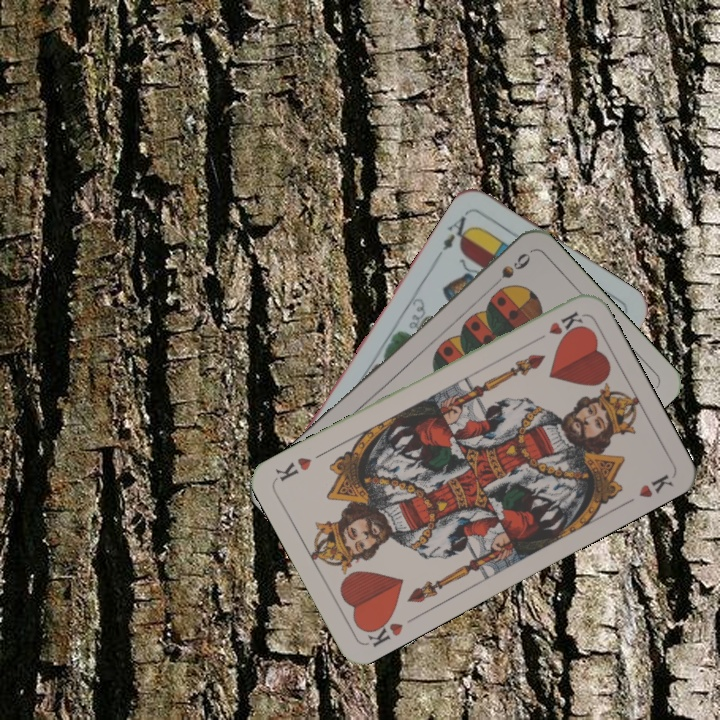EA: (438, 207, 475, 253)
HK: (530, 307, 585, 345), (359, 611, 406, 650)
S9: (485, 248, 533, 293)
